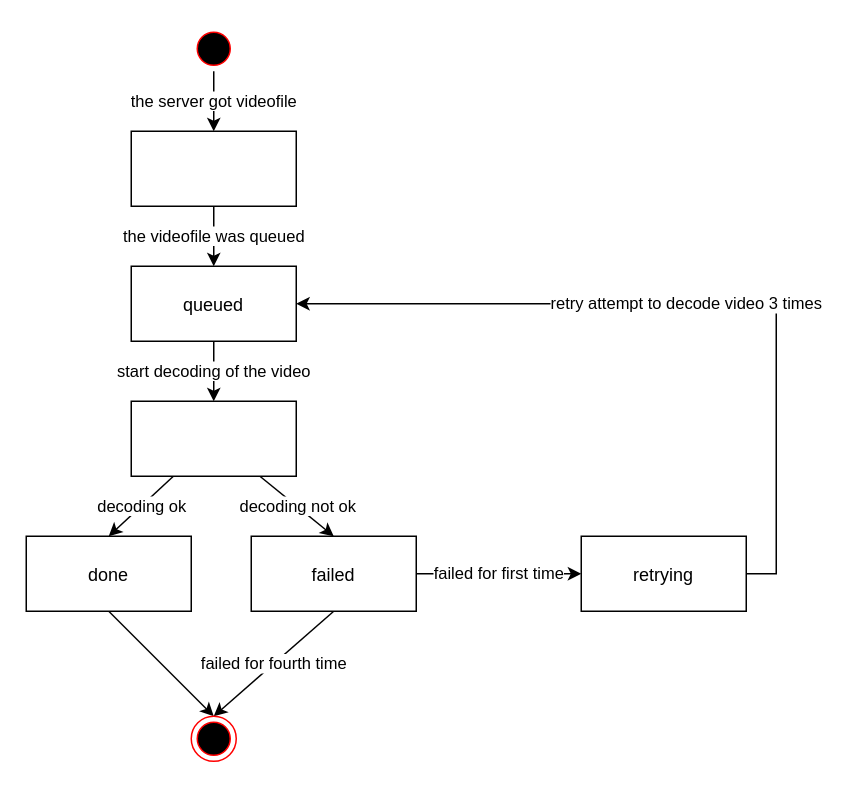
The diagram is 848 pixels wide and 788 high, and some of its shapes have lost their labels. Here are the shapes that lost their labels. From the top down, the centre of each, then its label:
the point at 213,168: uploaded
the point at 213,438: processing
